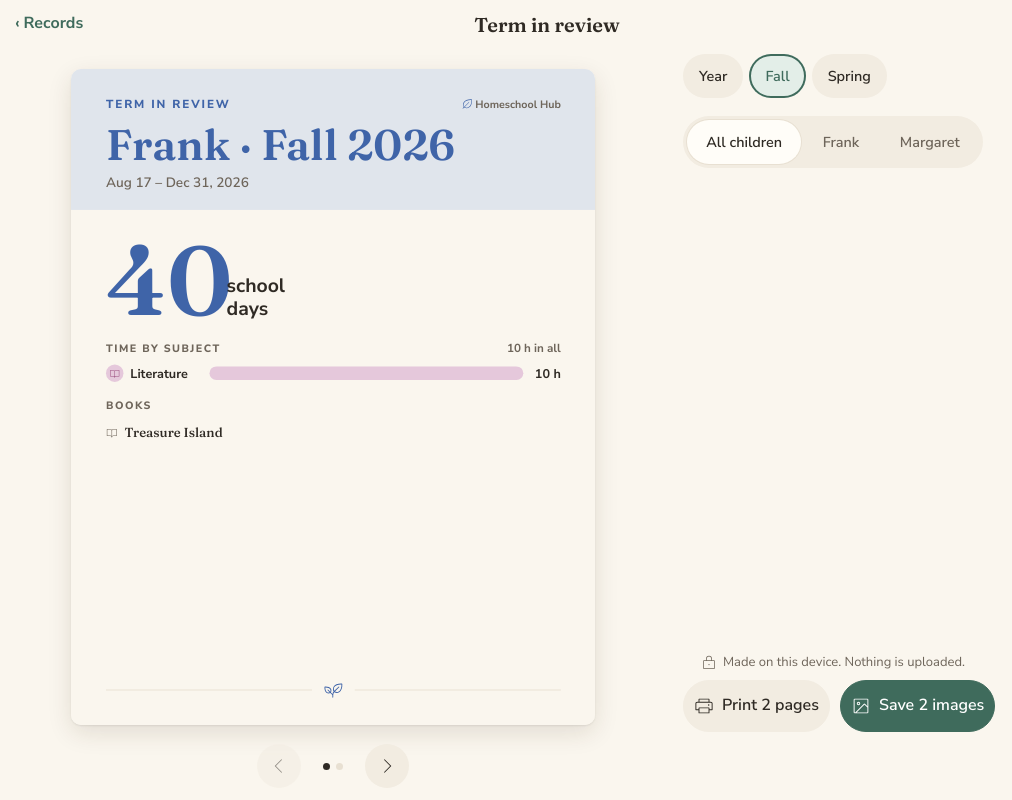
Term in review page (S13-05) › Save image makes the image on this device (one file per child), hands it to the share sheet or a download, and sends nothing anywhere
Check: the picture "Frank" is shown, box [71,69,595,725]
Click the button "Save 2 images". click: (918, 706)
box: [840,680,995,732]
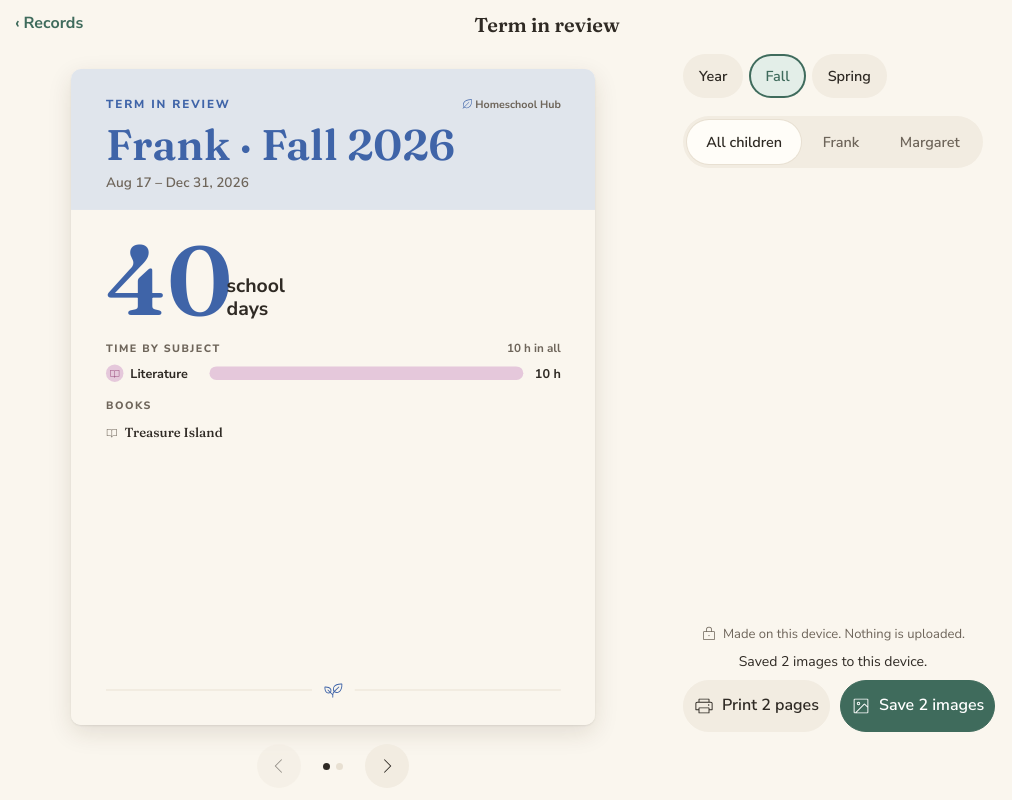
Check: the text "Saved 2 images to this device." is shown, box [739,652,927,671]
